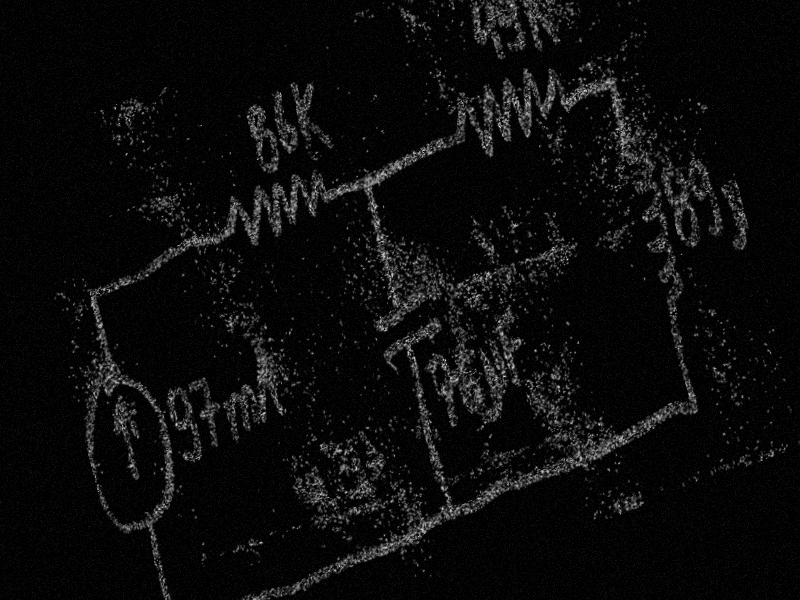4: (465, 0, 509, 70)
6: (445, 330, 488, 419), (266, 86, 303, 158)
7: (420, 343, 469, 435), (184, 368, 231, 456)
8: (656, 157, 708, 258), (242, 99, 287, 181)
9: (159, 377, 208, 472), (681, 152, 730, 247), (490, 0, 532, 64)
A: (241, 335, 288, 427)
F: (490, 302, 533, 388)
k: (287, 71, 338, 167), (516, 0, 564, 57)
m: (218, 381, 265, 443)
u: (471, 336, 518, 425), (714, 177, 754, 255)
